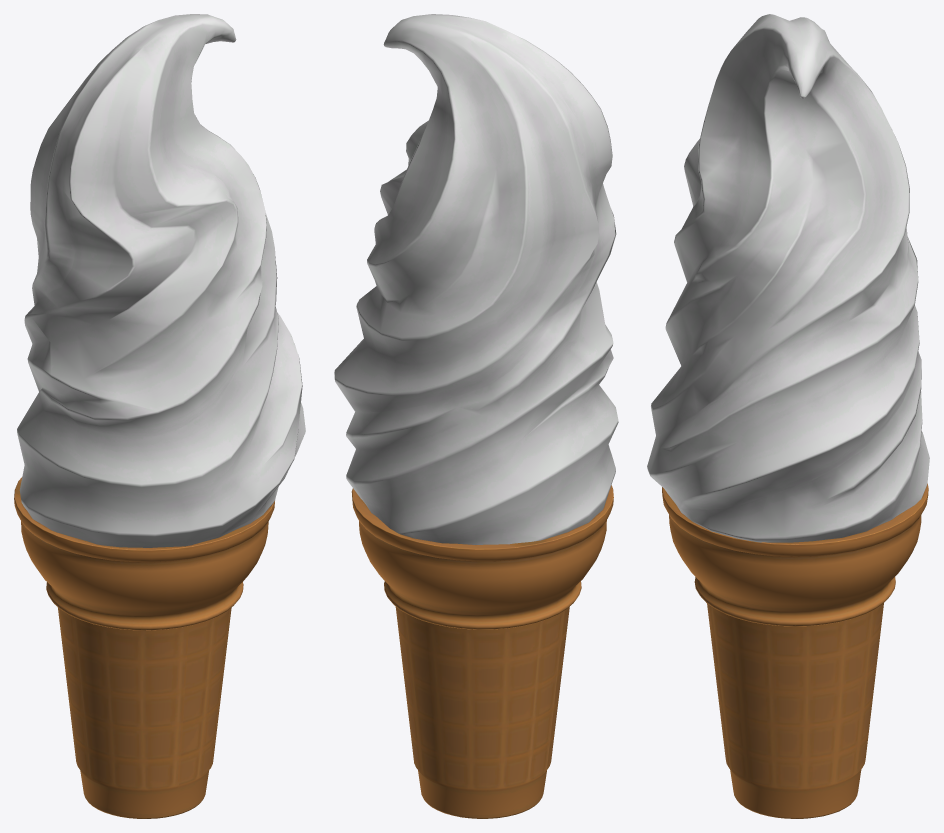
Rendered from ice_cream.fbx.
3 renders of one model, left to right at view 1: azimuth 30°, elevation 25°; view 2: azimuth 150°, elevation 25°; view 3: azimuth 270°, elevation 25°, orthographic.
Parts seen in each view (by area): view 1: node_id50; view 2: node_id50; view 3: node_id50.
Boxes of the visible parts, left/top/right/bottom form: node_id50: left=14, top=14, right=305, bottom=818; node_id50: left=334, top=14, right=618, bottom=818; node_id50: left=647, top=14, right=929, bottom=818.
Size of the model in its own units: 0.2023 by 0.5894 by 0.1934.
1 material, 1 textured.
